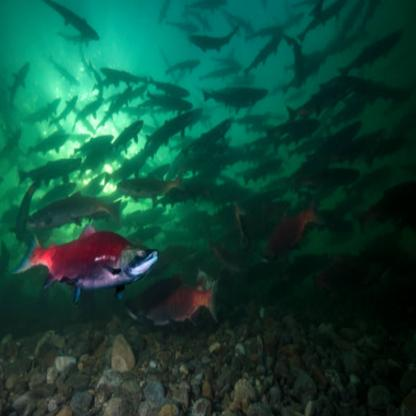sockeye: (12, 226, 163, 291)
